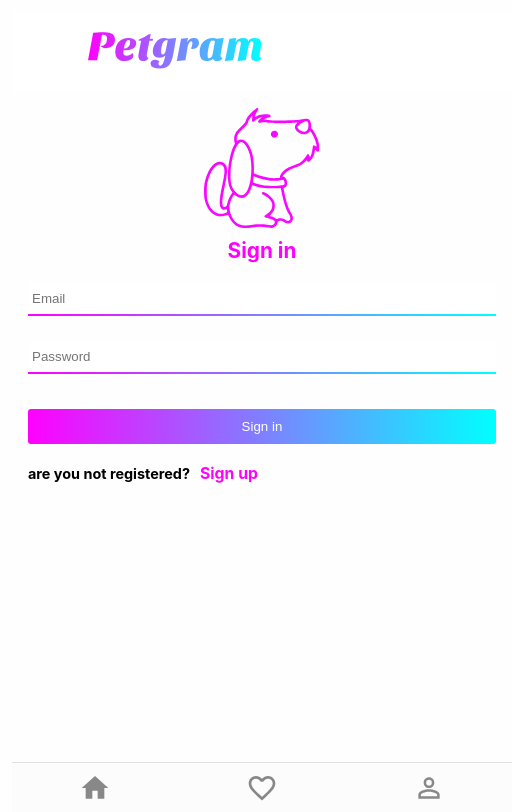
Test case: Login Page - Form › requires all fields
The width and height of the screenshot is (512, 812).
Step 1. Click the submit button → x=262, y=427, box [28,409,496,444]
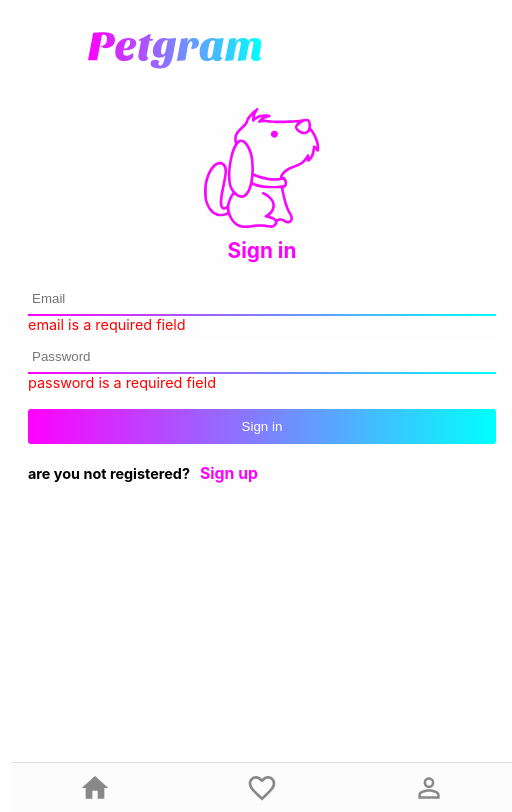
Check: the text "email is a required field" is shown, box [28,316,186,333]
Check: the text "password is a required field" is shown, box [28,374,216,391]
